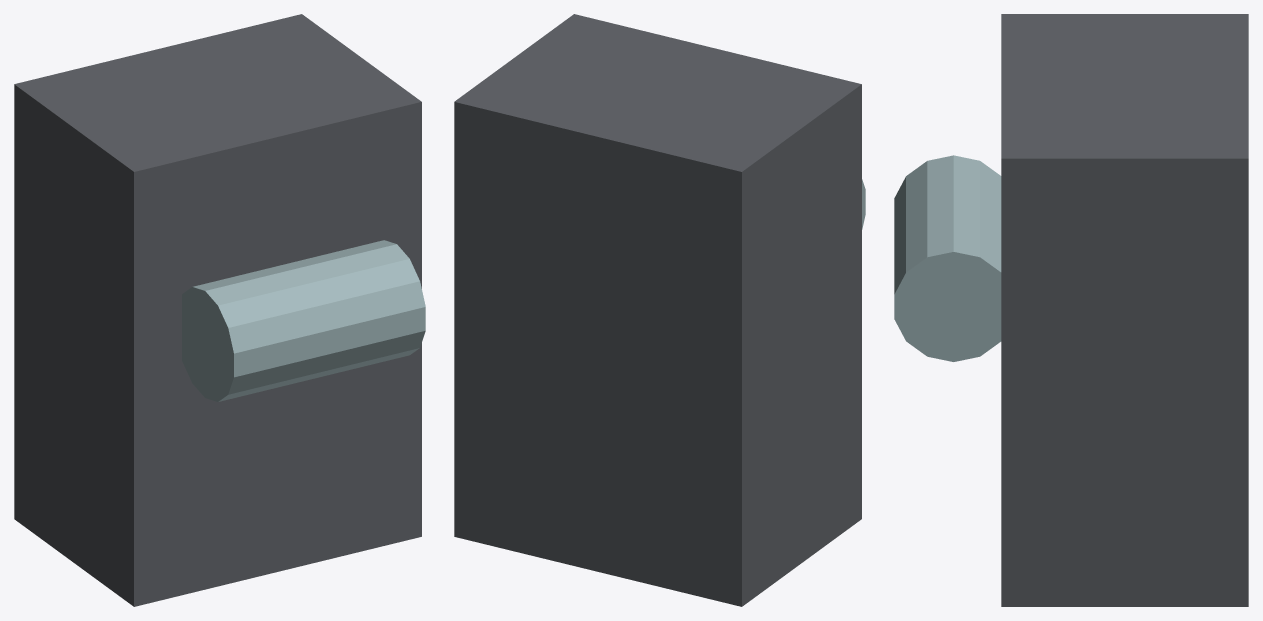
Rendered from BSM-006.glb.
3 views of the same model, side by side, from view 1: azimuth 30°, elevation 25°; view 2: azimuth 150°, elevation 25°; view 3: azimuth 270°, elevation 25° (orthographic). The views are drawn at different scales.
Parts seen in each view (by area): view 1: 000_Fuse_holder, 001_Glass_fuse; view 2: 000_Fuse_holder; view 3: 000_Fuse_holder, 001_Glass_fuse.
Part boxes in pixels (<box>): 000_Fuse_holder: <box>14,14,421,606</box>; 001_Glass_fuse: <box>182,240,425,401</box>; 000_Fuse_holder: <box>454,14,861,606</box>; 000_Fuse_holder: <box>1001,14,1248,606</box>; 001_Glass_fuse: <box>894,155,1001,361</box>.
Bounding box in the file's own units: 0.18 × 0.26 × 0.1862.
